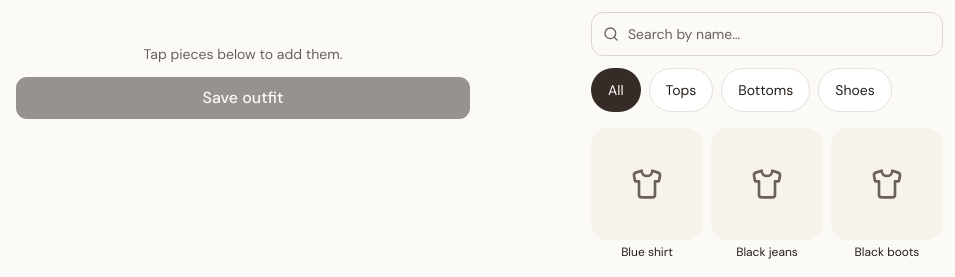
Test: filters the picker by category and name
The image size is (955, 277).
Click the button "Shoes". click: [855, 90]
box: x1=818 y1=68 x2=892 y2=112
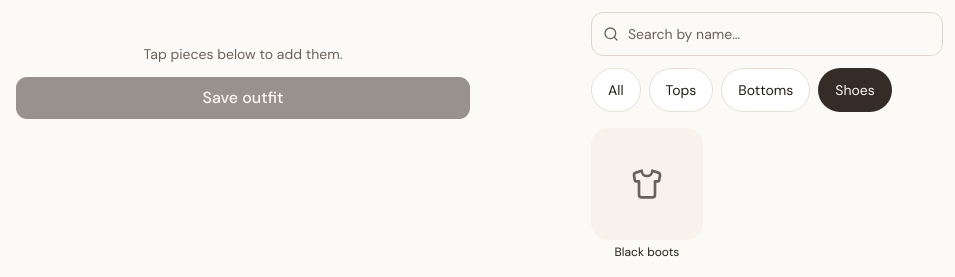
Expected: the button "Black boots" is shown, x1=591 y1=128 x2=703 y2=260
Result: the button "Blue shirt" is gone
Click the button "All". click: [616, 90]
box: x1=591 y1=68 x2=640 y2=112
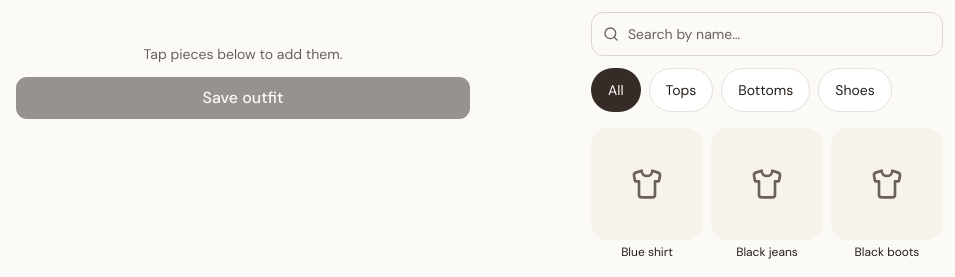
Type "BLACK" into the search field named "Search your closet". click: [767, 34]
box: x1=591 y1=12 x2=943 y2=56
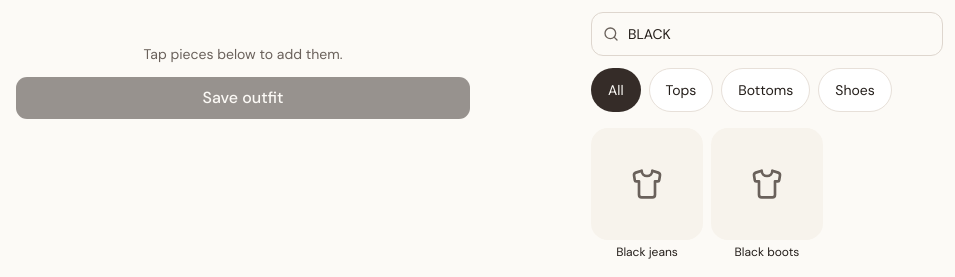
Result: the button "Black jeans" is shown at x1=591 y1=128 x2=703 y2=260
Result: the button "Blue shirt" is gone
Replace the text in the search field named "Search your closet" with "dress". click: [767, 34]
box: x1=591 y1=12 x2=943 y2=56
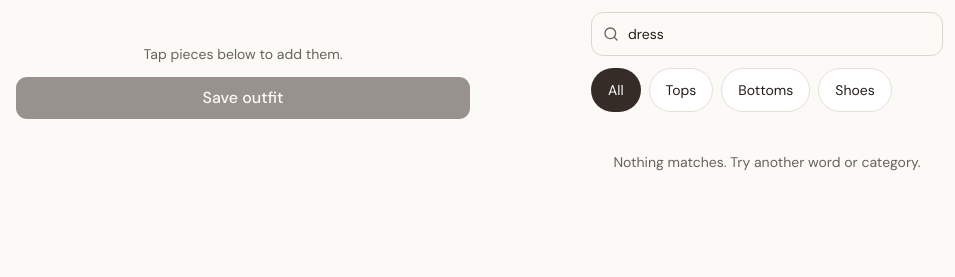
Result: the text "Nothing matches. Try another word or category." is shown at x1=613 y1=153 x2=921 y2=171
